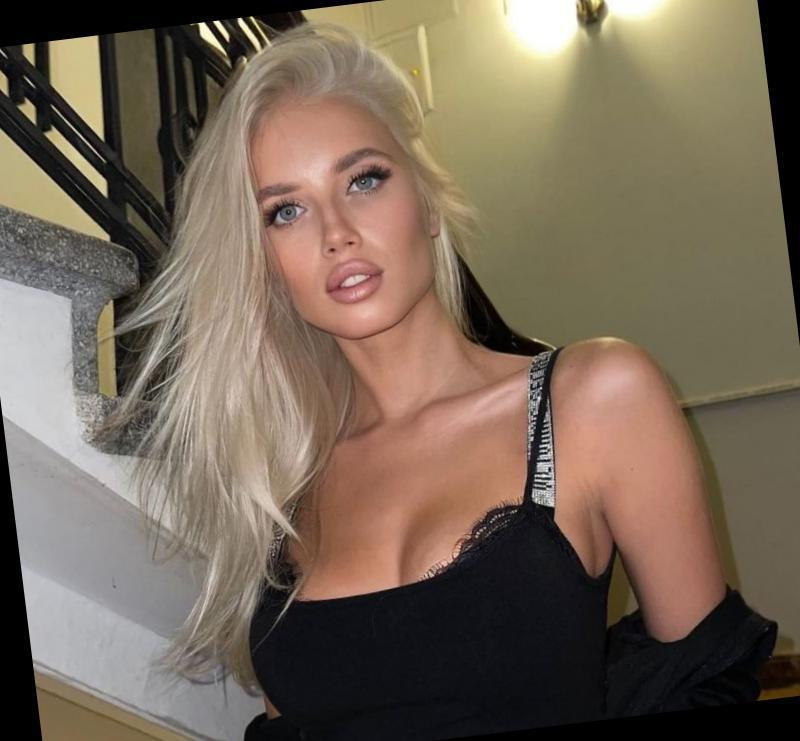Sober: (251, 109, 426, 335)
